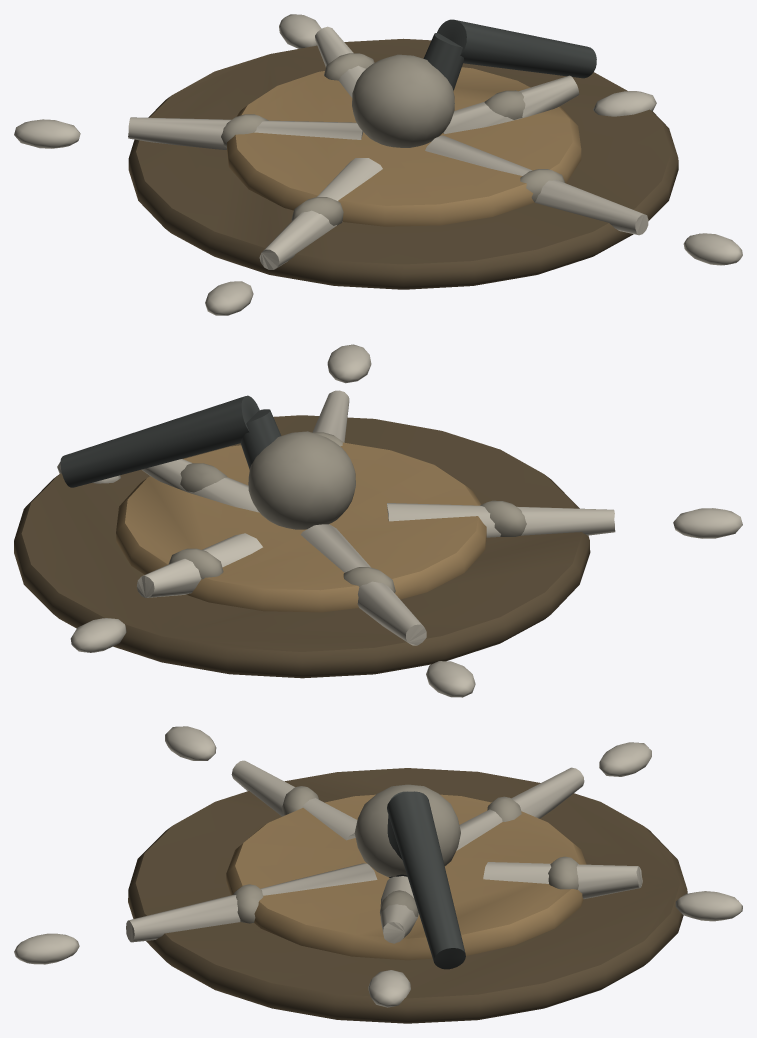
File: fulgurite_b.glb
The picture shows the model from 3 angles, top to bottom: view 1: azimuth 30°, elevation 25°; view 2: azimuth 150°, elevation 25°; view 3: azimuth 270°, elevation 25°; orthographic projection. The views are drawn at different scales.
Visible parts, largest first — view 1: Surface; view 2: Surface; view 3: Surface.
Boxes of the visible parts, x1=… form: Surface: x1=14, y1=14, x2=742, y2=315; Surface: x1=14, y1=344, x2=742, y2=697; Surface: x1=14, y1=726, x2=742, y2=1023.
Bounding box in the file's own units: 2.31 × 0.5707 × 2.61.
